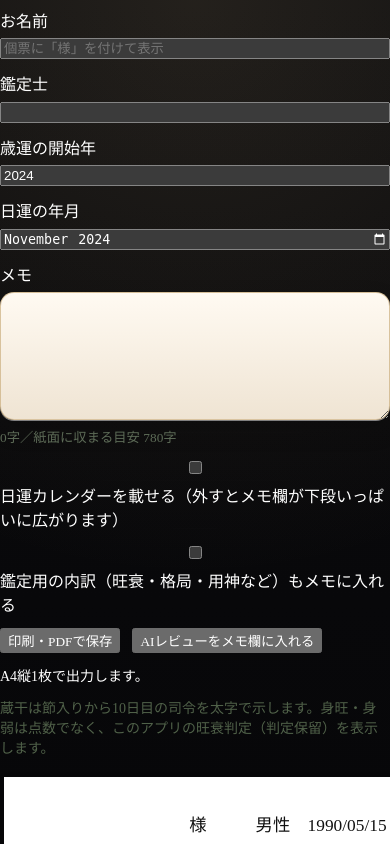
Test case: 鑑定個票 › follows the annual start year and calendar month inputs and reports out-of-range values
Replace the text in the number field labelled "歳運の開始年" with "2030" at coordinates (195, 176), box [0,165,389,186]
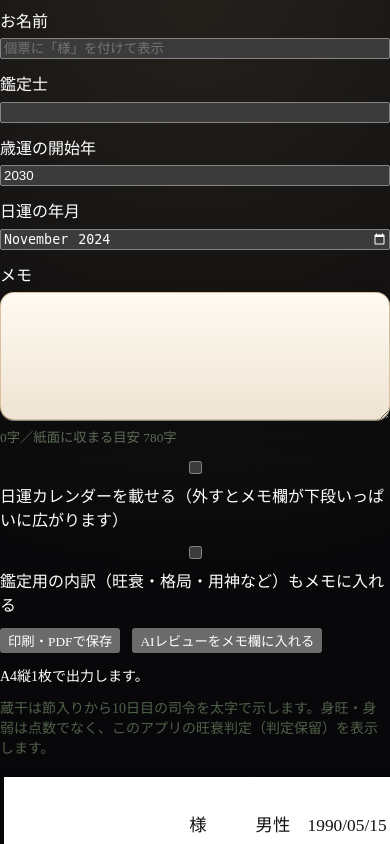
Replace the text in the field labelled "日運の年月" with "2025-02" at coordinates (195, 239), box [0,229,389,250]
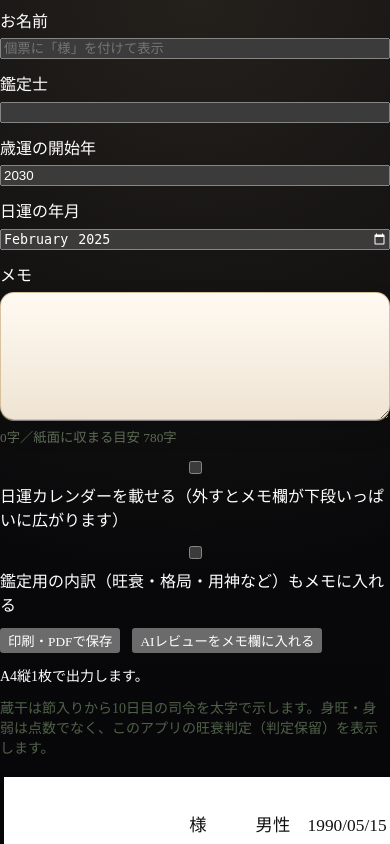
Click the checkbox labelled "日運カレンダーを載せる（外すとメモ欄が下段いっぱいに広がります）" at coordinates (196, 467), box [4,461,387,474]
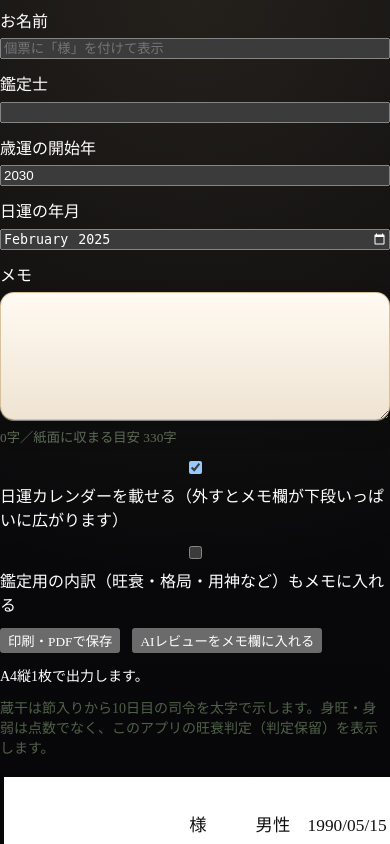
Replace the text in the number field labelled "歳運の開始年" with "1800" at coordinates (195, 176), box [0,165,389,186]
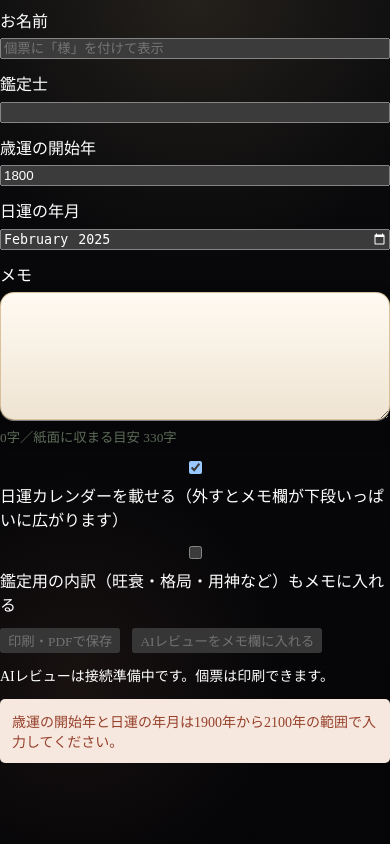
Check: the message shows "1900年から2100年", box [12,716,376,750]
Check: the button "印刷・PDFで保存" is disabled, box [0,628,120,654]
